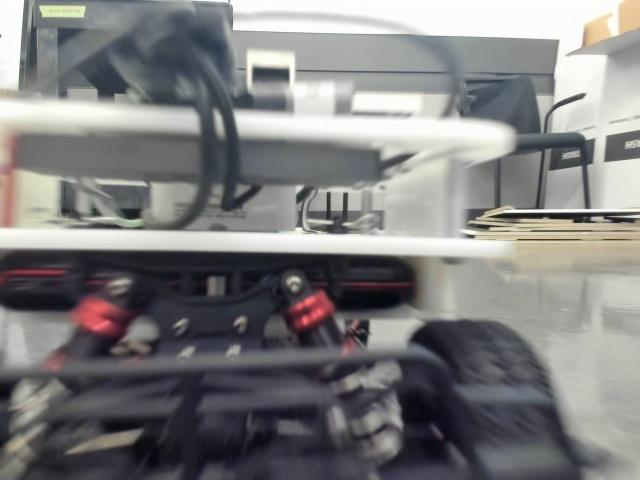Car: (2, 2, 569, 479)
